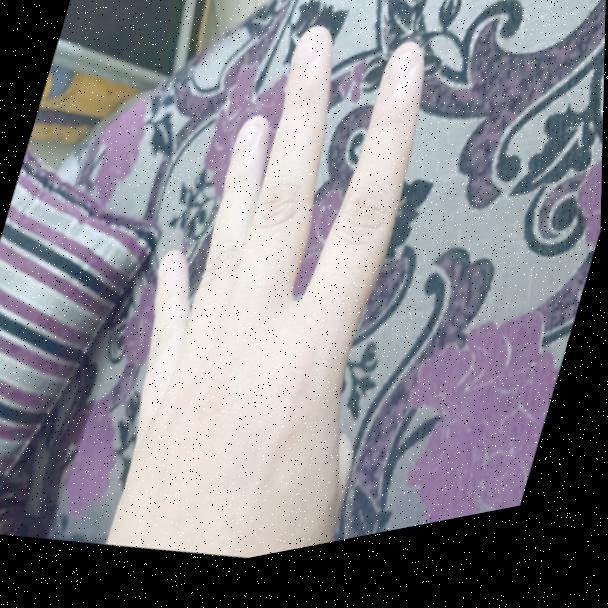four: (80, 0, 463, 586)
